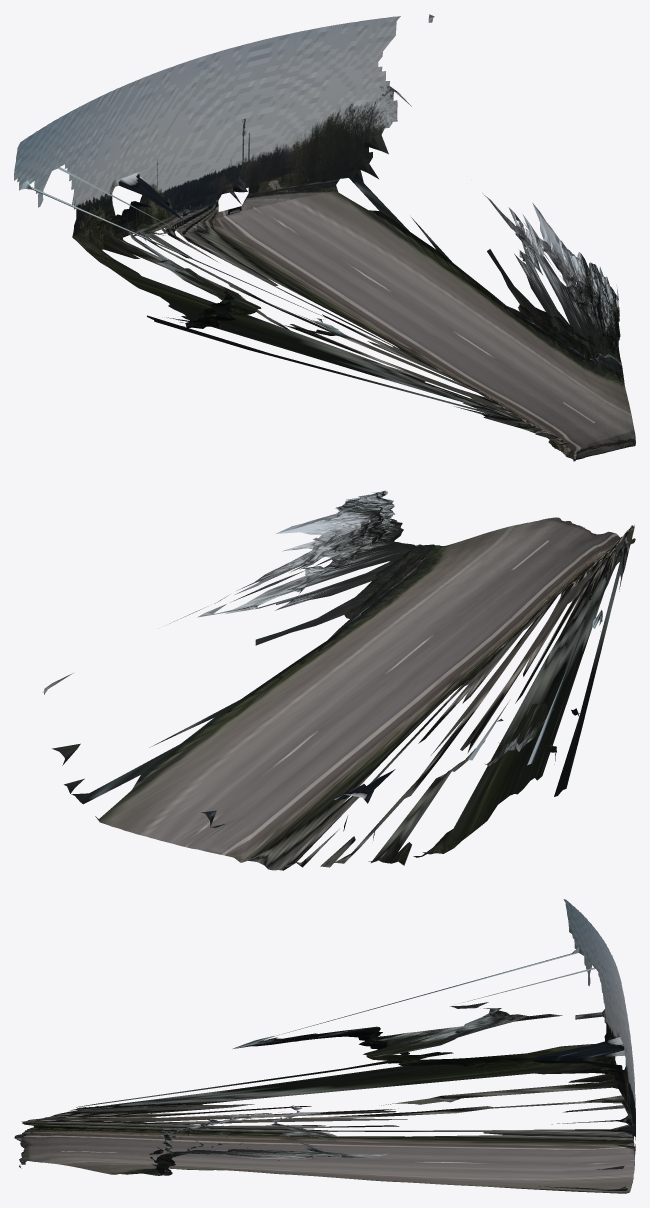
3 views of the same model, one above another, from view 1: azimuth 30°, elevation 25°; view 2: azimuth 150°, elevation 25°; view 3: azimuth 270°, elevation 25° (orthographic). The views are drawn at different scales.
Visible parts, largest first — view 1: defaultobject; view 2: defaultobject; view 3: defaultobject.
Boxes of the visible parts, box(x1,y1,x2,y2) form: defaultobject: box(14, 14, 635, 461); defaultobject: box(42, 490, 635, 870); defaultobject: box(14, 899, 635, 1193).
Bounding box in the file's own units: 32.25 × 12.45 × 44.65.
Materials: 1 (1 with a texture image).
